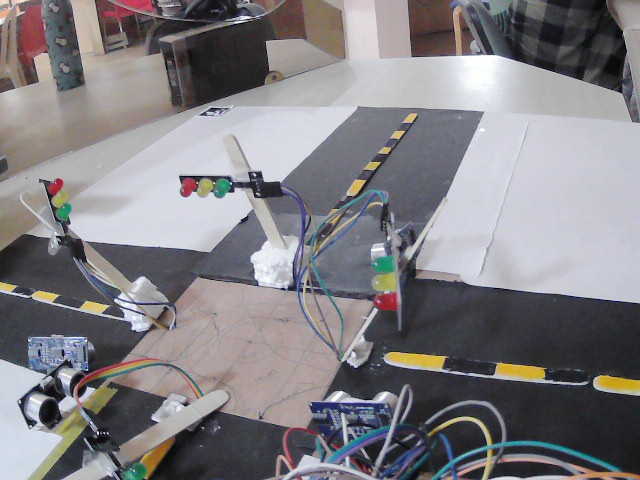aruco_marker: (197, 103, 233, 118)
mixed_lane: (312, 110, 423, 250), (386, 351, 638, 394), (0, 280, 128, 318), (143, 434, 177, 473)
traffic_light: (366, 248, 394, 309), (46, 167, 72, 225), (174, 176, 231, 198), (116, 455, 150, 480)
uno_breadboard: (16, 357, 88, 432), (308, 386, 405, 439), (371, 213, 428, 264), (23, 332, 96, 370)
yellow_strip: (388, 345, 440, 375), (591, 372, 640, 396), (495, 360, 542, 381), (79, 300, 110, 317), (344, 177, 364, 198), (34, 288, 57, 300), (324, 210, 342, 221), (0, 281, 15, 293), (402, 111, 416, 122), (362, 158, 377, 168), (390, 131, 408, 138), (378, 147, 390, 153)
